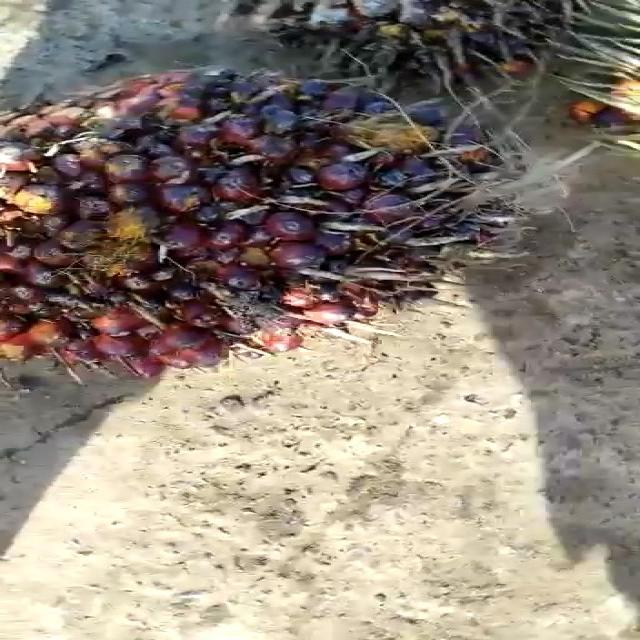palm oil: (0, 43, 532, 383)
